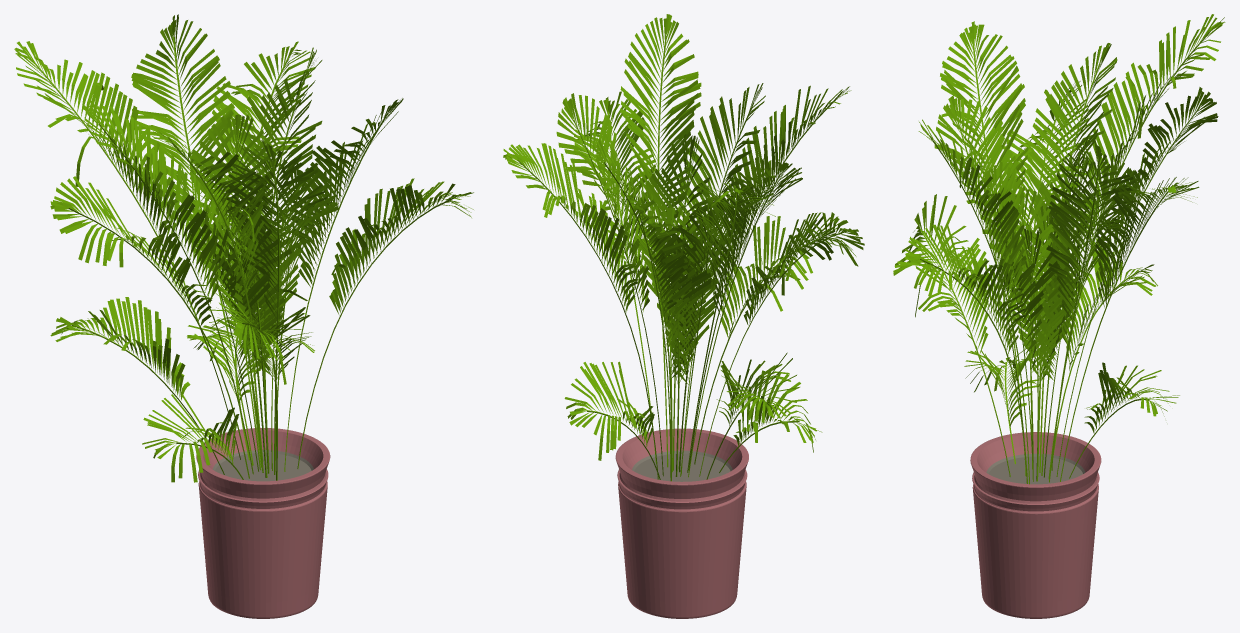
The model's file is b0-plant.glb.
3 views of the same model, side by side, from view 1: azimuth 30°, elevation 25°; view 2: azimuth 150°, elevation 25°; view 3: azimuth 270°, elevation 25° (orthographic). The views are drawn at different scales.
Visible parts, largest first — view 1: plant_Mesh.001, Circle; view 2: plant_Mesh.001, Circle; view 3: plant_Mesh.001, Circle.
Part boxes in pixels (<box>): plant_Mesh.001: <box>14,14,473,482</box>; Circle: <box>196,428,330,618</box>; plant_Mesh.001: <box>503,14,864,481</box>; Circle: <box>615,428,748,618</box>; plant_Mesh.001: <box>893,14,1225,484</box>; Circle: <box>970,432,1101,618</box>.
Bounding box in the file's own units: 0.818 × 1.17 × 0.6899.
